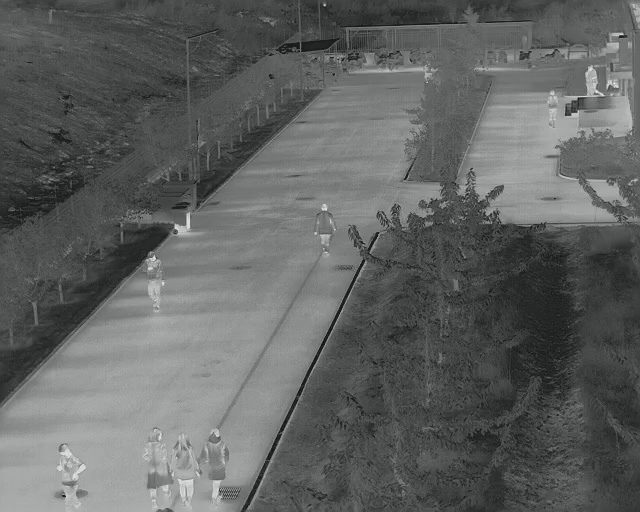person: (141, 425, 172, 509), (200, 426, 233, 503), (53, 442, 88, 512), (171, 432, 201, 512), (140, 249, 165, 314), (312, 200, 336, 257), (545, 89, 562, 130), (584, 65, 600, 98)
